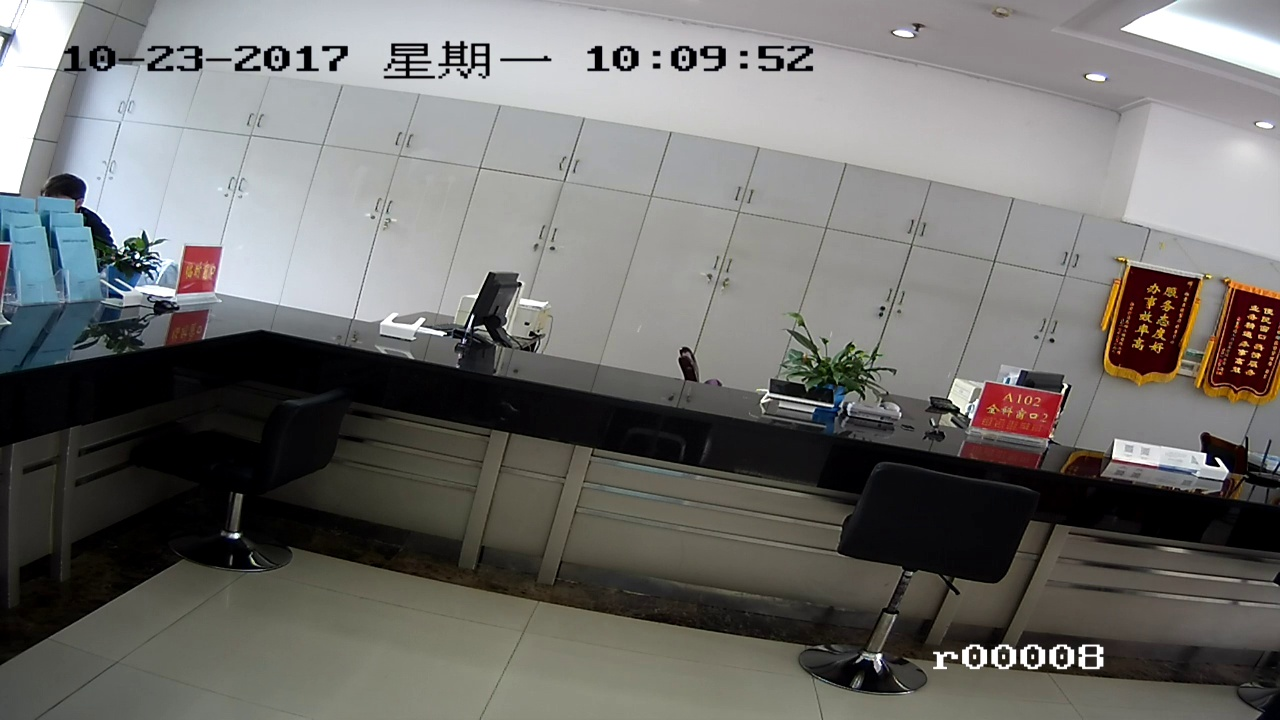billboard: (1105, 256, 1197, 387)
chair: (833, 473, 1027, 701), (160, 399, 344, 589)
monitor: (474, 270, 525, 361)
pot: (777, 319, 876, 402)
